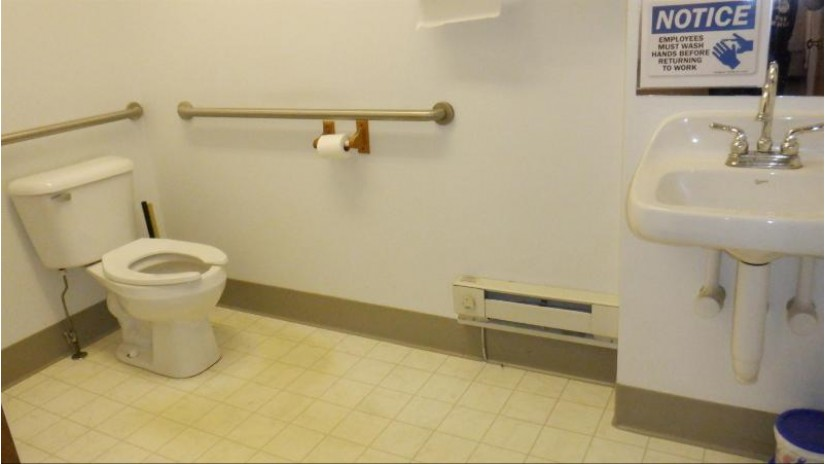dispenser: (311, 117, 372, 158)
faucet: (710, 62, 823, 171), (707, 123, 749, 158), (781, 126, 821, 157)
restroom_assist_bar: (178, 101, 455, 125), (1, 102, 146, 147)
sink: (627, 110, 825, 257)
toilet: (7, 153, 228, 379)
toilet_handle: (49, 188, 73, 204)
